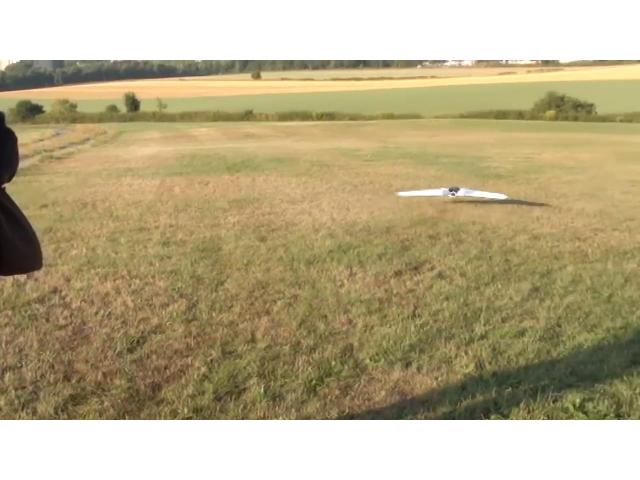Anti-Drone: (390, 166, 516, 212)
